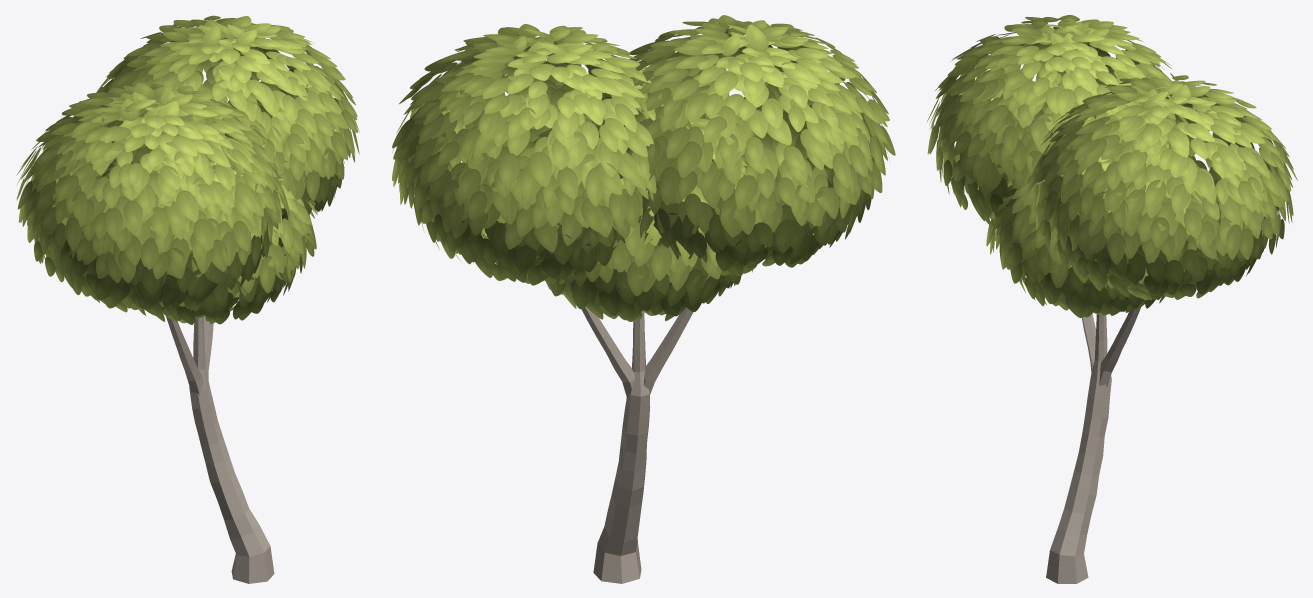
Rendered from tree_lean_olive.glb.
3 views of the same model, side by side, from view 1: azimuth 30°, elevation 25°; view 2: azimuth 150°, elevation 25°; view 3: azimuth 270°, elevation 25° (orthographic). The views are drawn at different scales.
Visible parts, largest first — view 1: foliage, trunk; view 2: foliage, trunk; view 3: foliage, trunk.
Boxes of the visible parts, x1,y1,x2,y2 form: foliage: [16, 15, 359, 324]; trunk: [166, 316, 274, 583]; foliage: [392, 15, 895, 321]; trunk: [581, 274, 710, 583]; foliage: [926, 15, 1297, 317]; trunk: [1046, 307, 1140, 583].
Size of the model in its own units: 4.67 by 6.24 by 4.23.
3 materials, 2 textured.
